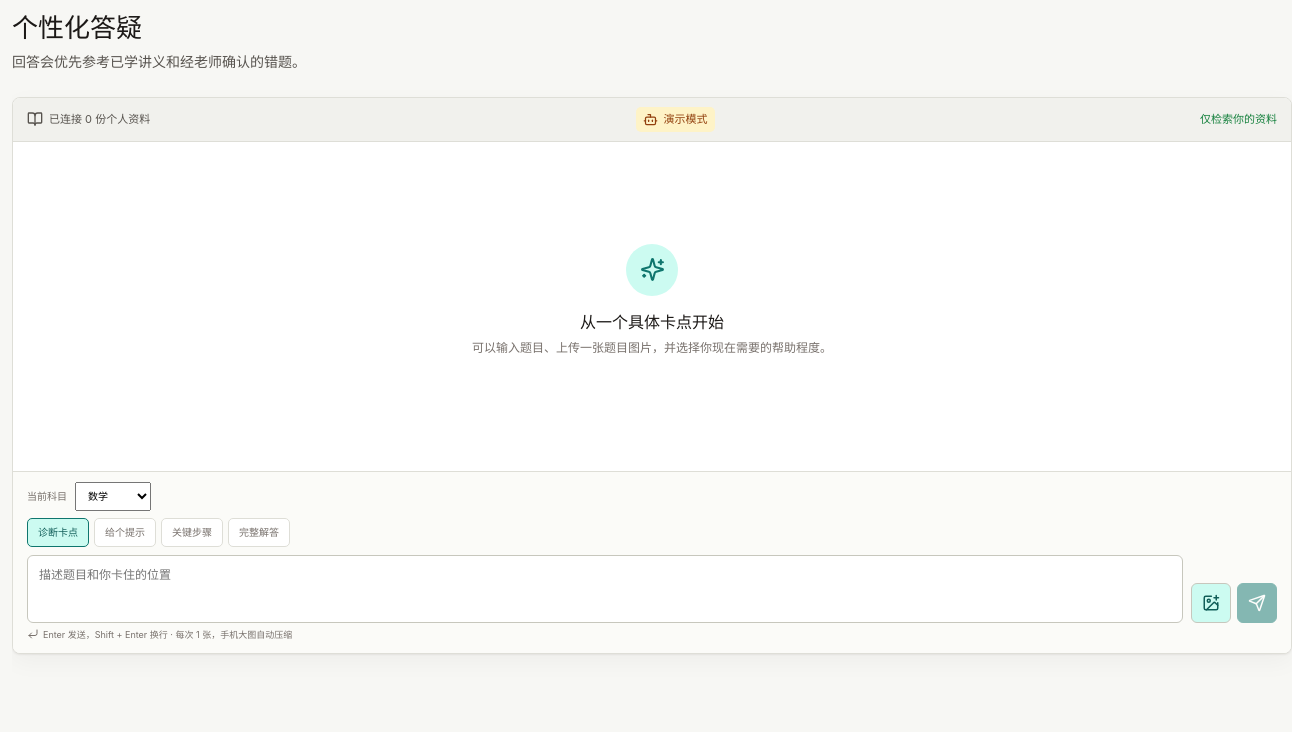
Test: TutorPage multimodal composer › keeps the question and attempted work when a retryable model request fails
Type "求椭圆在给定点处的切线方程" into the text box with placeholder "描述题目和你卡住的位置" at [605, 588], box 27,554 -> 1183,622
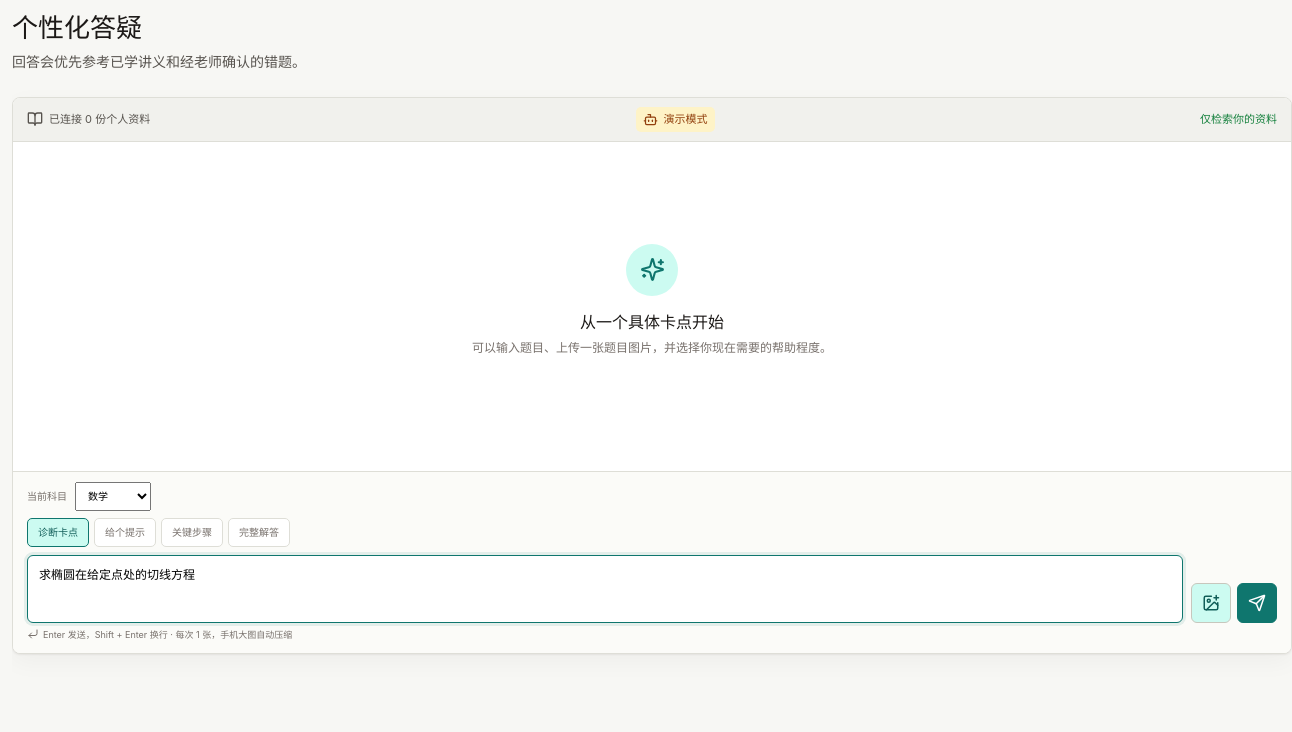
Click the button "完整解答" at [259, 532], box 228,518 -> 290,546
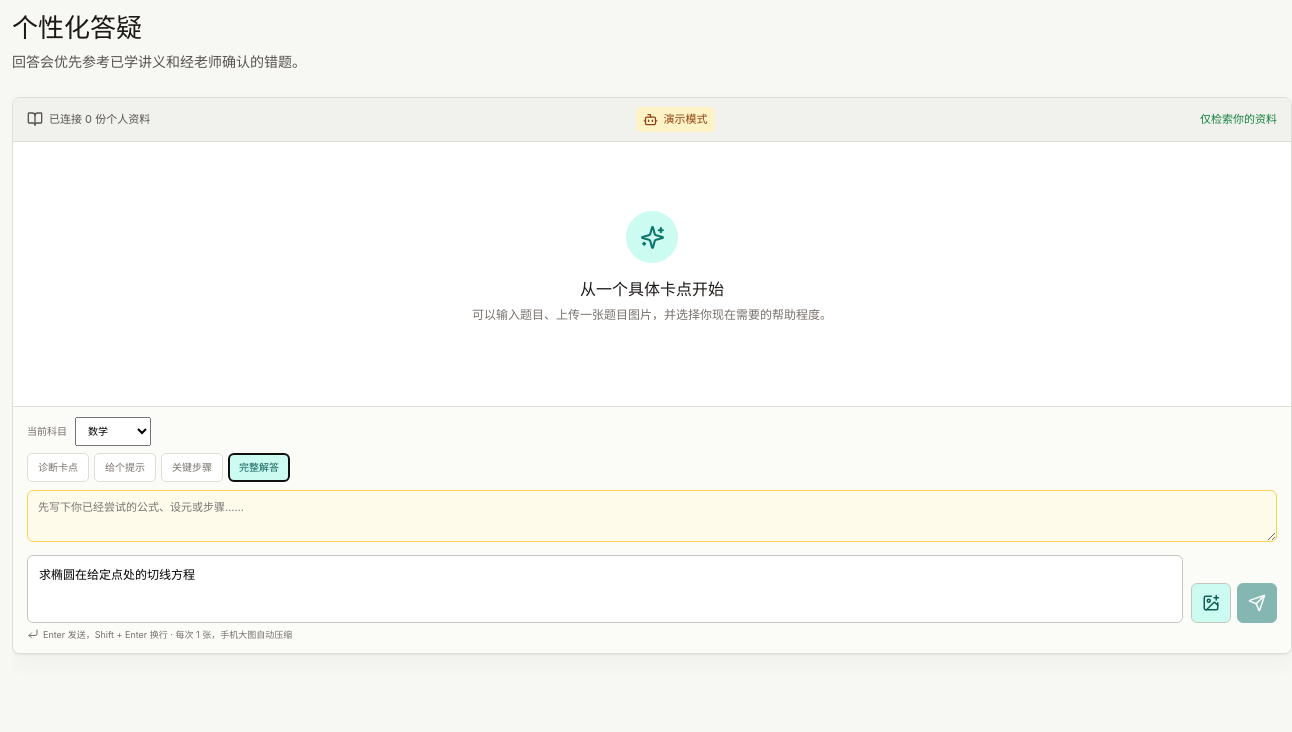
Type "设切点为 P(x0,y0)，并代入椭圆方程" into the text box with placeholder "先写下你已经尝试的公式、设元或步骤……" at [652, 516], box 27,490 -> 1277,542
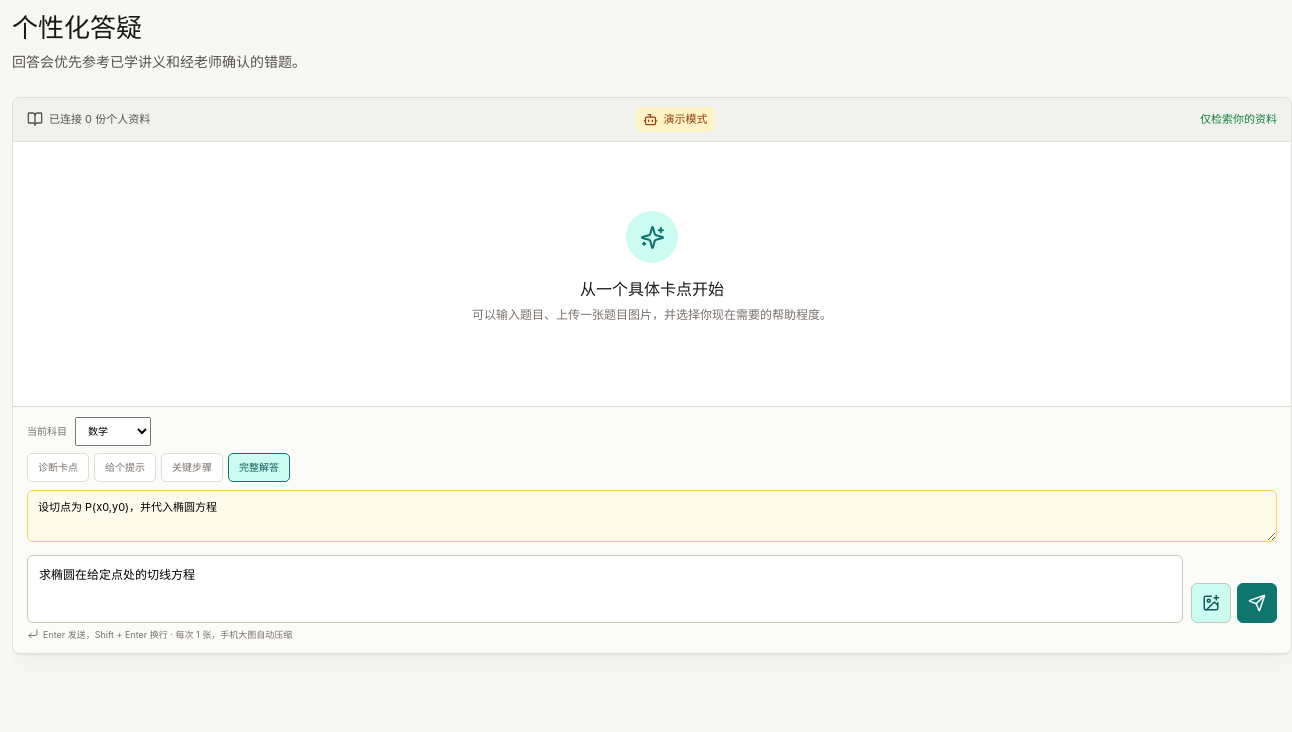
Click the button titled "发送" at [1257, 602], box 1237,582 -> 1277,622
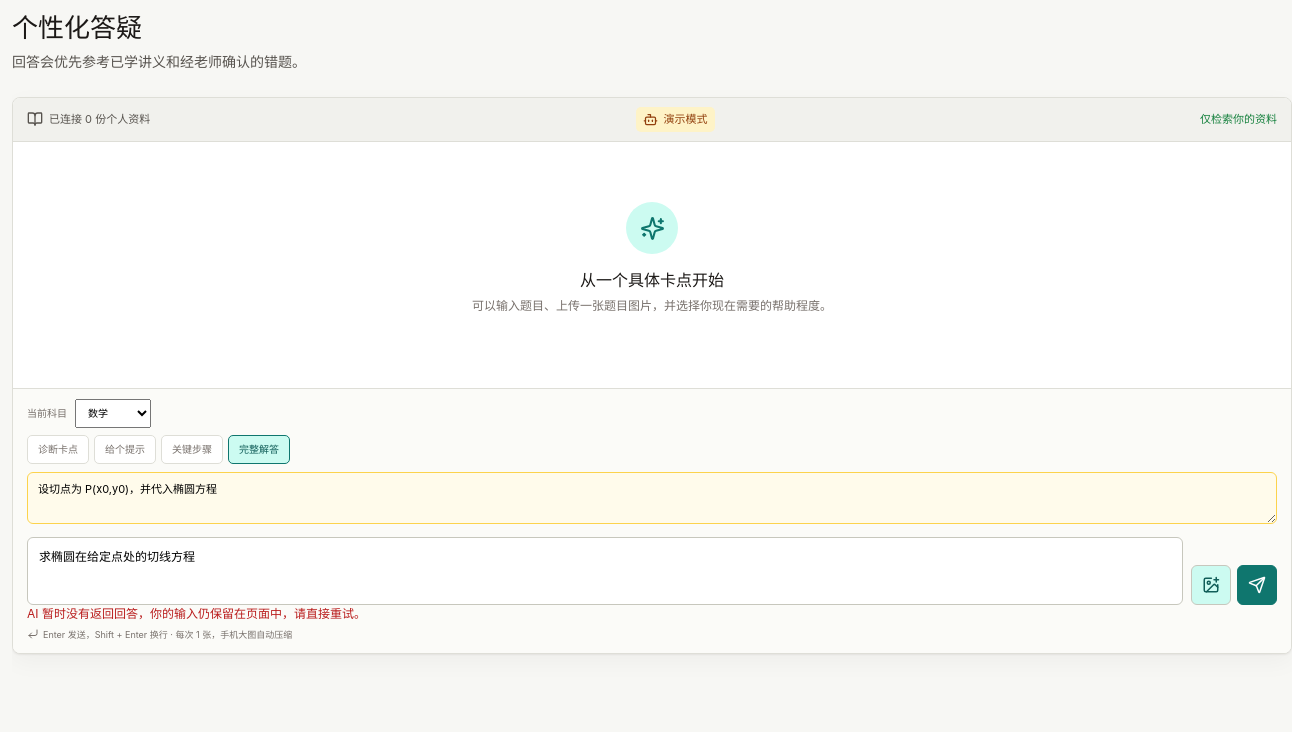
Result: the text "AI 暂时没有返回回答，你的输入仍保留在页面中，请直接重试。" is shown at 27,606 -> 366,620
